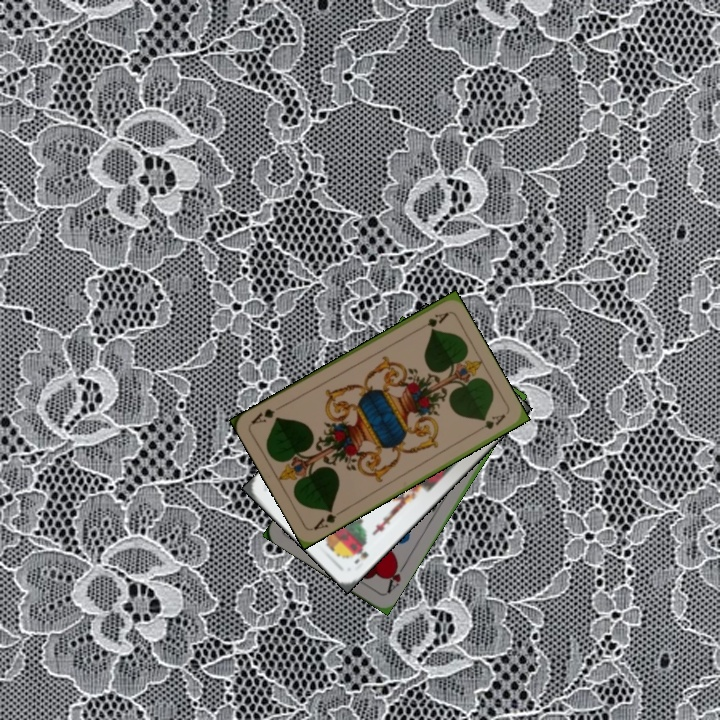GA: (309, 505, 346, 533), (413, 308, 451, 334)
HA: (383, 558, 409, 596)
SK: (350, 544, 371, 566)
